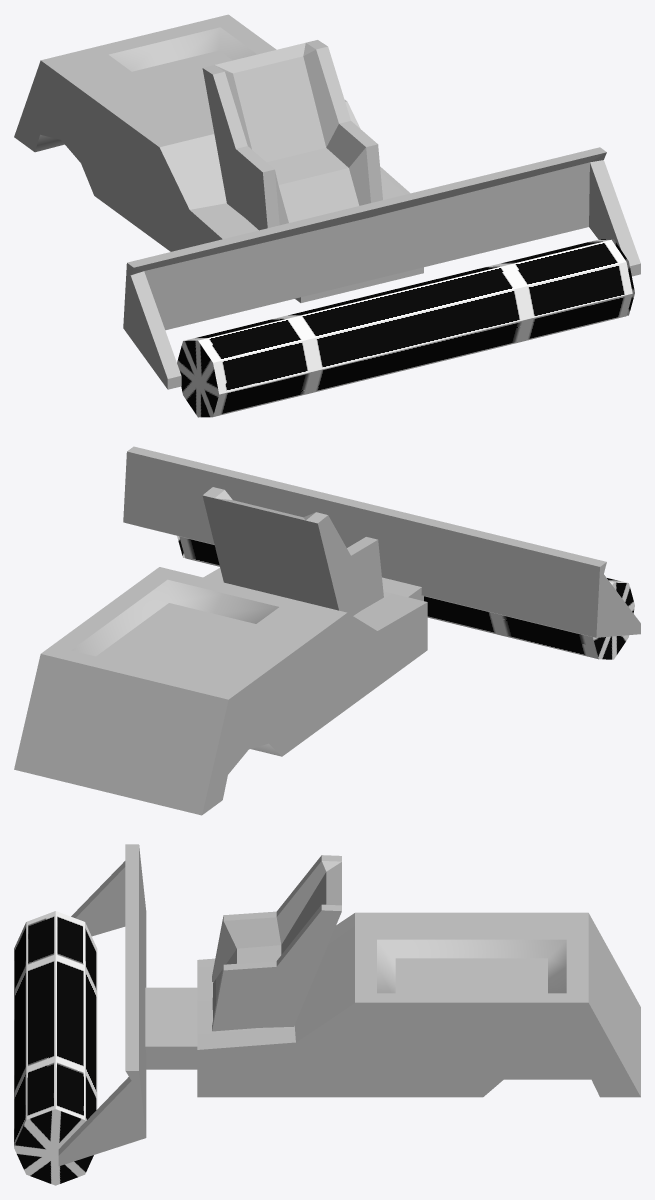
The model's file is Cosechadora.fbx.
3 renders of one model, top to bottom at view 1: azimuth 30°, elevation 25°; view 2: azimuth 150°, elevation 25°; view 3: azimuth 270°, elevation 25°, orthographic.
Visible parts, largest first — view 1: Pala, Cortadora, Cosechadora, Silla; view 2: Cosechadora, Pala, Silla, Cortadora; view 3: Cosechadora, Cortadora, Silla, Pala.
Part boxes in pixels (x1,y1,x2,y2): Pala: (123,147,640,389); Cortadora: (177,239,634,417); Cosechadora: (14,14,423,302); Silla: (202,40,382,230); Cosechadora: (14,567,427,815); Pala: (123,446,640,637); Silla: (202,487,383,615); Cortadora: (177,536,634,659); Cosechadora: (145,912,640,1097); Cortadora: (14,911,97,1185); Silla: (212,855,341,1031); Pala: (58,844,146,1166).
Size of the model in its own units: 536 by 224 by 627.
